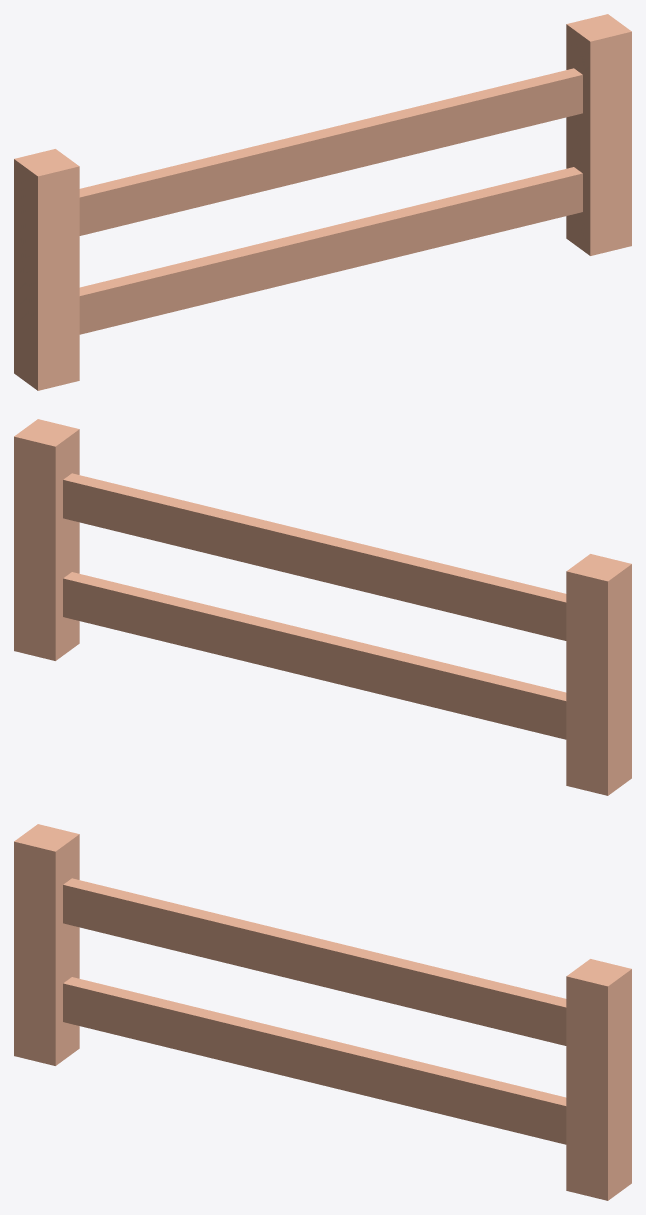
Rendered from fence_simple.glb.
3 renders of one model, top to bottom at view 1: azimuth 30°, elevation 25°; view 2: azimuth 150°, elevation 25°; view 3: azimuth 330°, elevation 25°, orthographic.
Parts seen in each view (by area): view 1: fence_simple; view 2: fence_simple; view 3: fence_simple.
Boxes of the visible parts, x1,y1,x2,y2 form: fence_simple: (14, 14, 631, 390); fence_simple: (14, 419, 631, 795); fence_simple: (14, 824, 631, 1200).
Size of the model in its own units: 1 by 0.345 by 0.07.
Materials: 1 (1 with a texture image).
